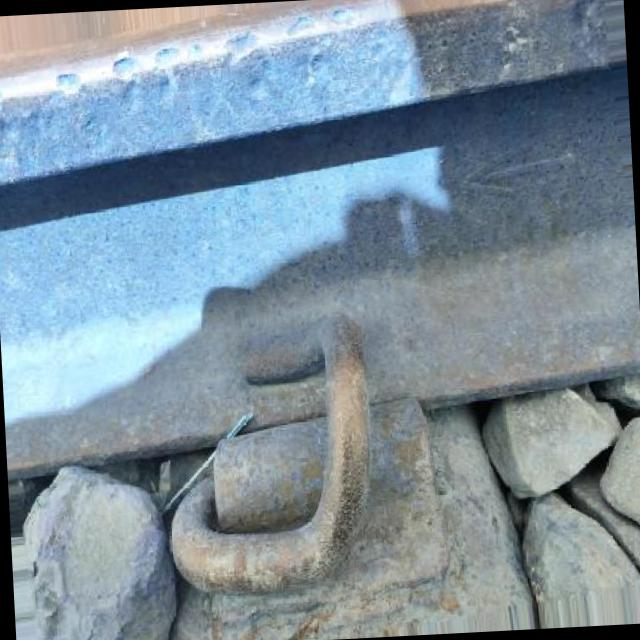defective: (0, 0, 634, 240)
